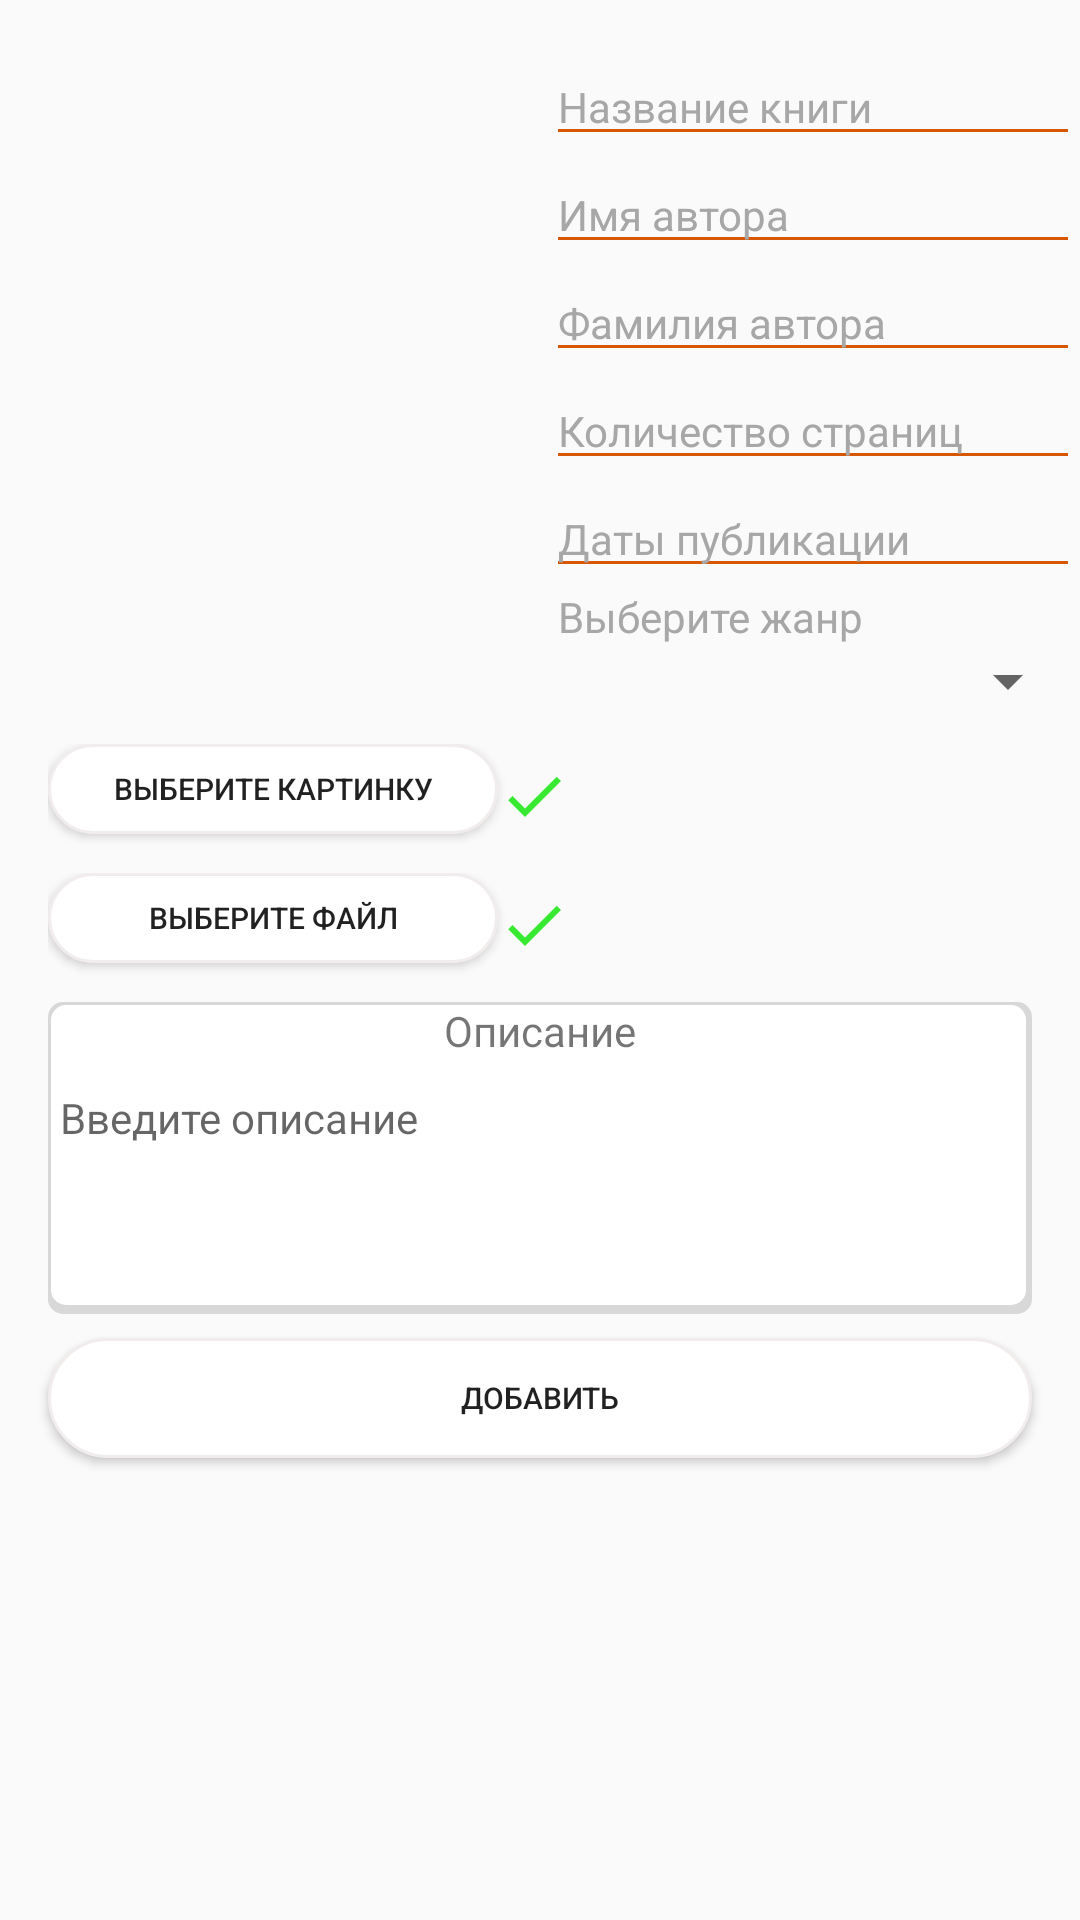

Where icons sit on this 1080 × 1920 app screen, as (x1, y1, x2, y2):
check mark: (508, 777, 561, 817), (508, 906, 561, 946)
